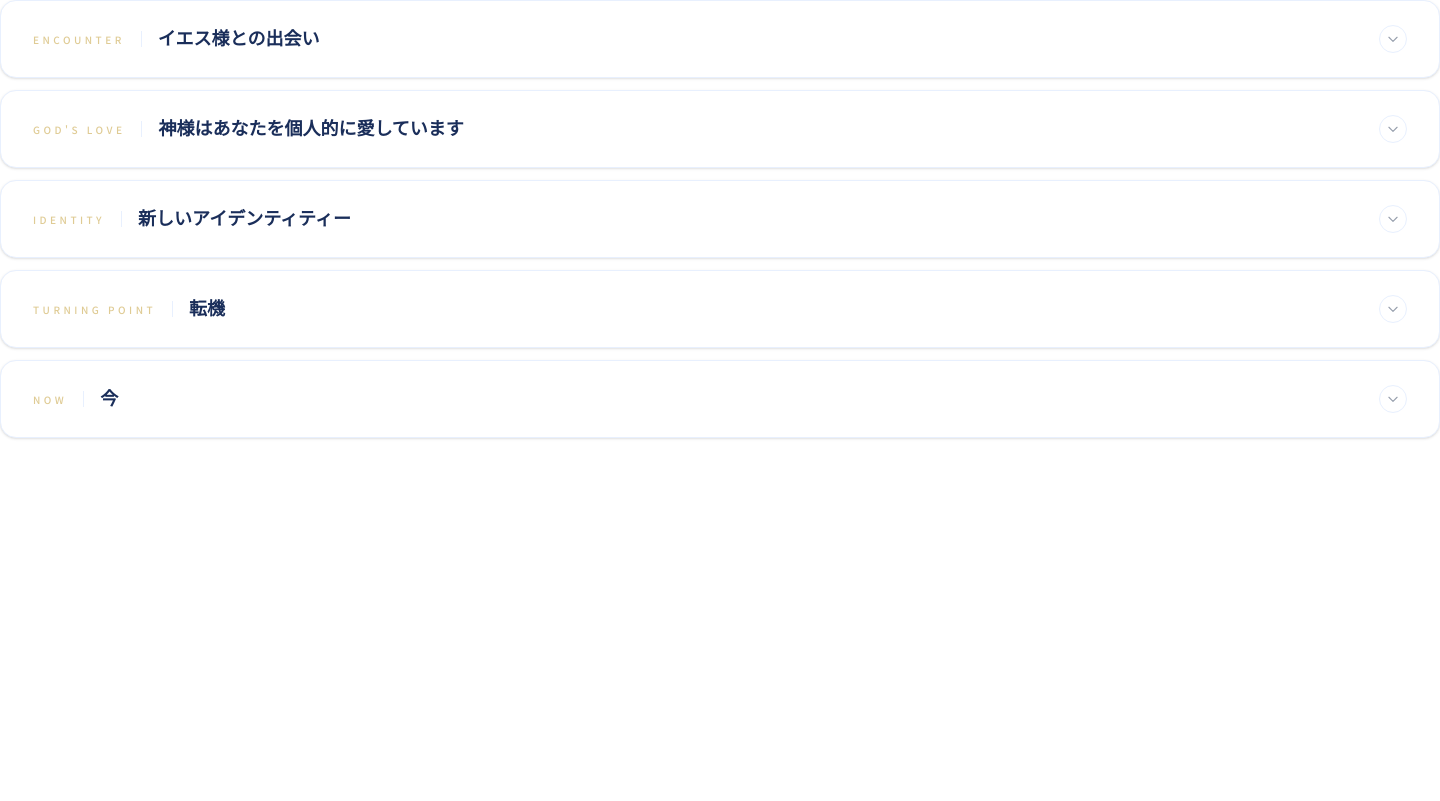
Test: JourneyAccordion › ボタンをクリックするとそのアイテムが開く（aria-expanded=true）
This screenshot has width=1440, height=801.
Click the button "Encounter イエス様との出会い". click: (79, 39)
box: [1,1,1439,77]
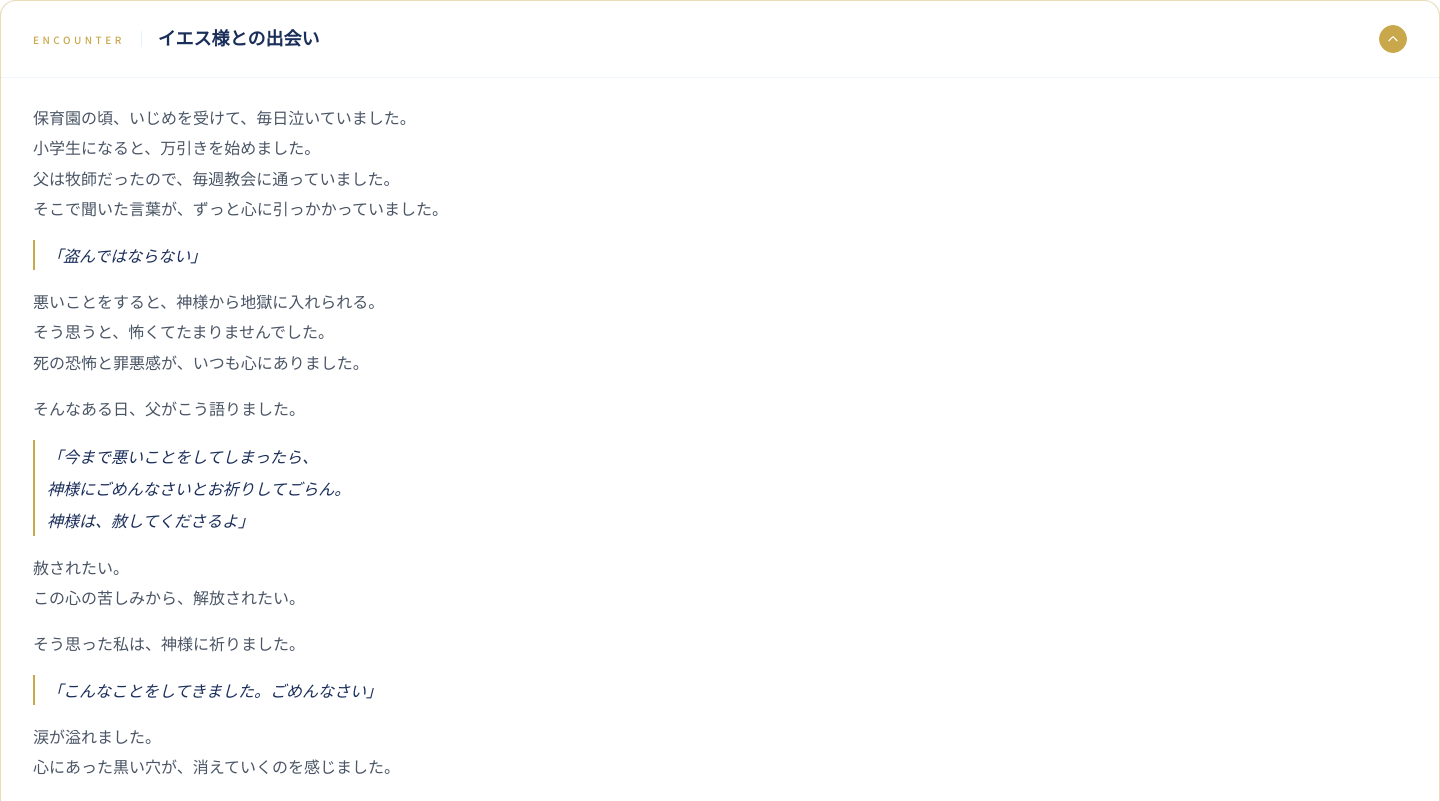
Check: the button is expanded, box [1,1,1439,77]
